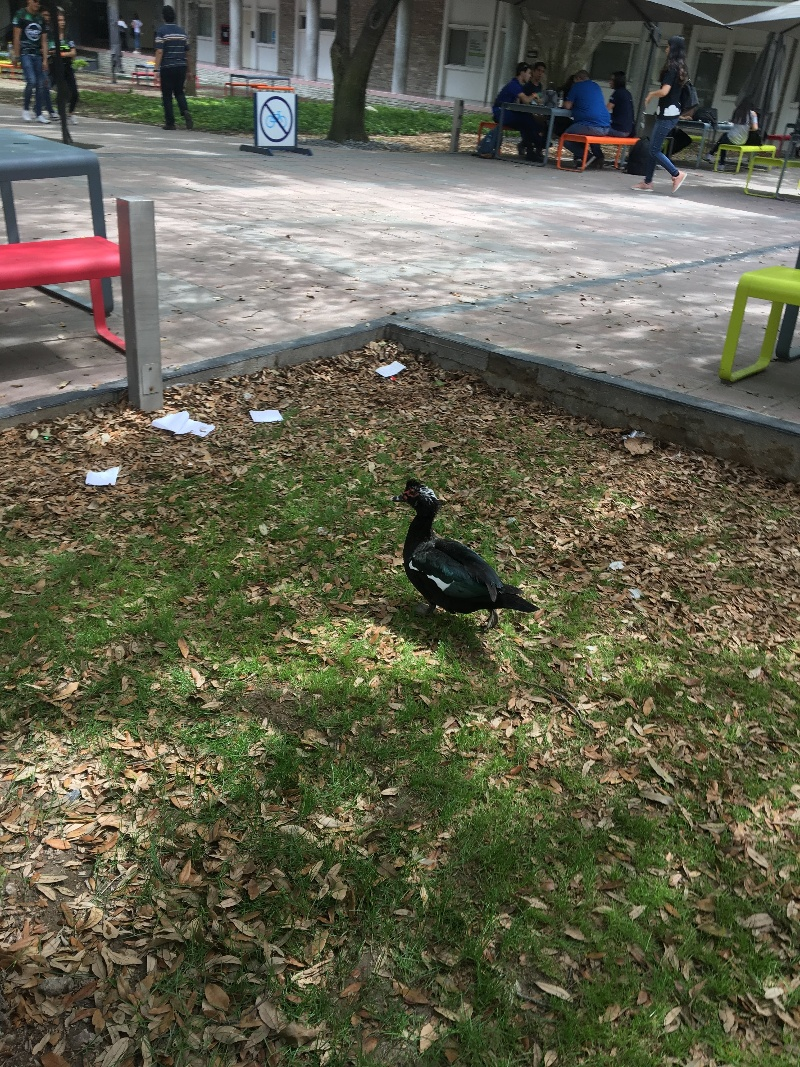pato: (397, 473, 512, 627)
